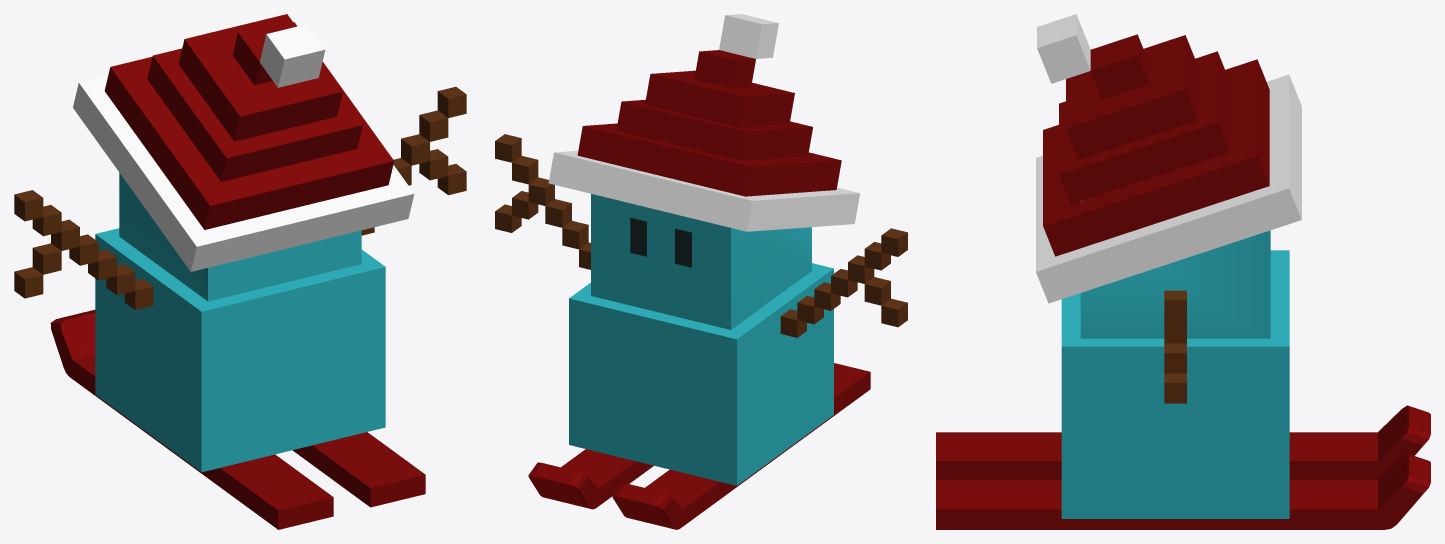
Rendered from Snowman.FBX.
The picture shows the model from 3 angles, left to right: view 1: azimuth 30°, elevation 25°; view 2: azimuth 150°, elevation 25°; view 3: azimuth 270°, elevation 25°; orthographic projection. The views are drawn at different scales.
Parts seen in each view (by area): view 1: body, Box001, White, ski, arm; view 2: body, Box001, White, ski, arm, eyes; view 3: body, Box001, ski, White, arm.
Part boxes in pixels (x1=…): body: x1=95, y1=173, x2=385, y2=472; Box001: x1=104, y1=14, x2=394, y2=229; White: x1=73, y1=24, x2=414, y2=271; ski: x1=50, y1=309, x2=425, y2=529; arm: x1=14, y1=86, x2=466, y2=309; body: x1=569, y1=156, x2=833, y2=485; Box001: x1=577, y1=50, x2=841, y2=196; White: x1=548, y1=14, x2=859, y2=231; ski: x1=528, y1=363, x2=870, y2=529; arm: x1=495, y1=134, x2=907, y2=337; eyes: x1=630, y1=217, x2=691, y2=267; body: x1=1061, y1=200, x2=1289, y2=518; Box001: x1=1043, y1=34, x2=1269, y2=256; ski: x1=936, y1=405, x2=1430, y2=529; White: x1=1036, y1=14, x2=1301, y2=303; arm: x1=1164, y1=290, x2=1186, y2=403.
Size of the model in its own units: 72 by 67.73 by 65.07.
